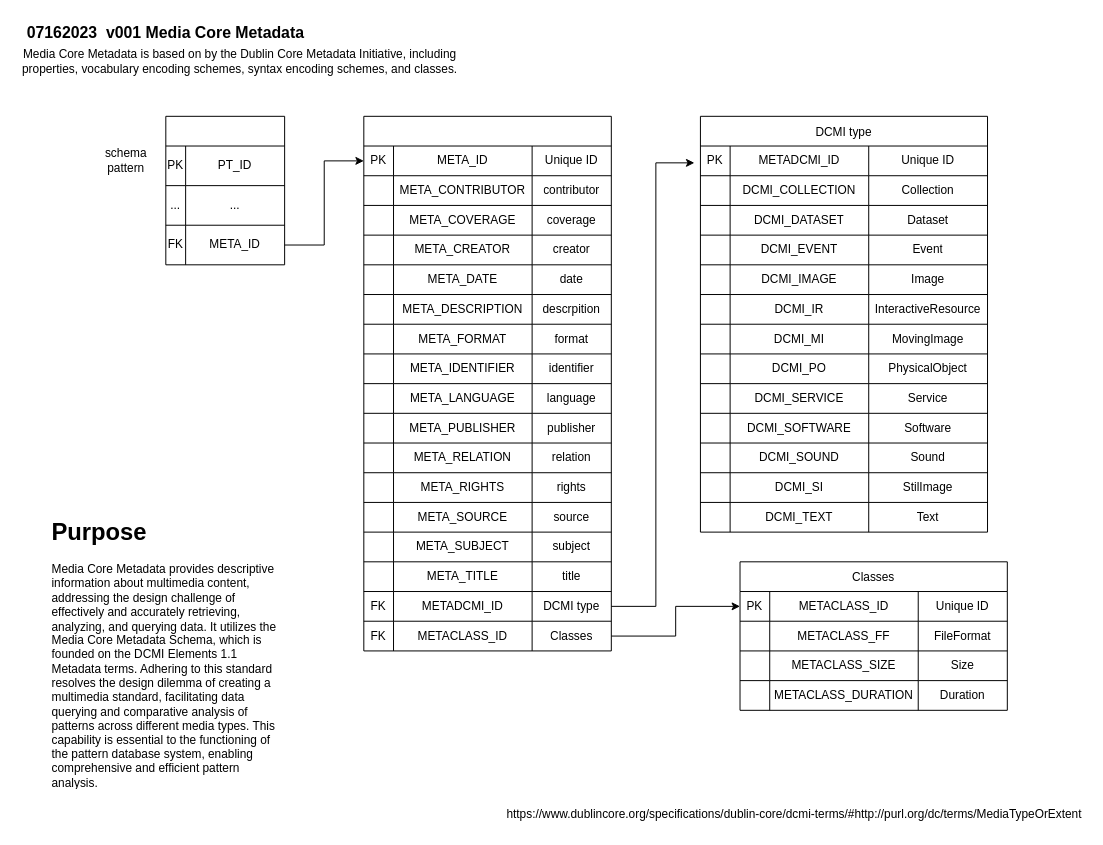
This 1103x845 diagram has some shape labels left out. The box of each missing label's shape, as (x1, y1, x2, y2) in pixels:
Media Core Metadata Elements: (363, 115, 611, 651)
Pattern TItle: (165, 115, 285, 265)
